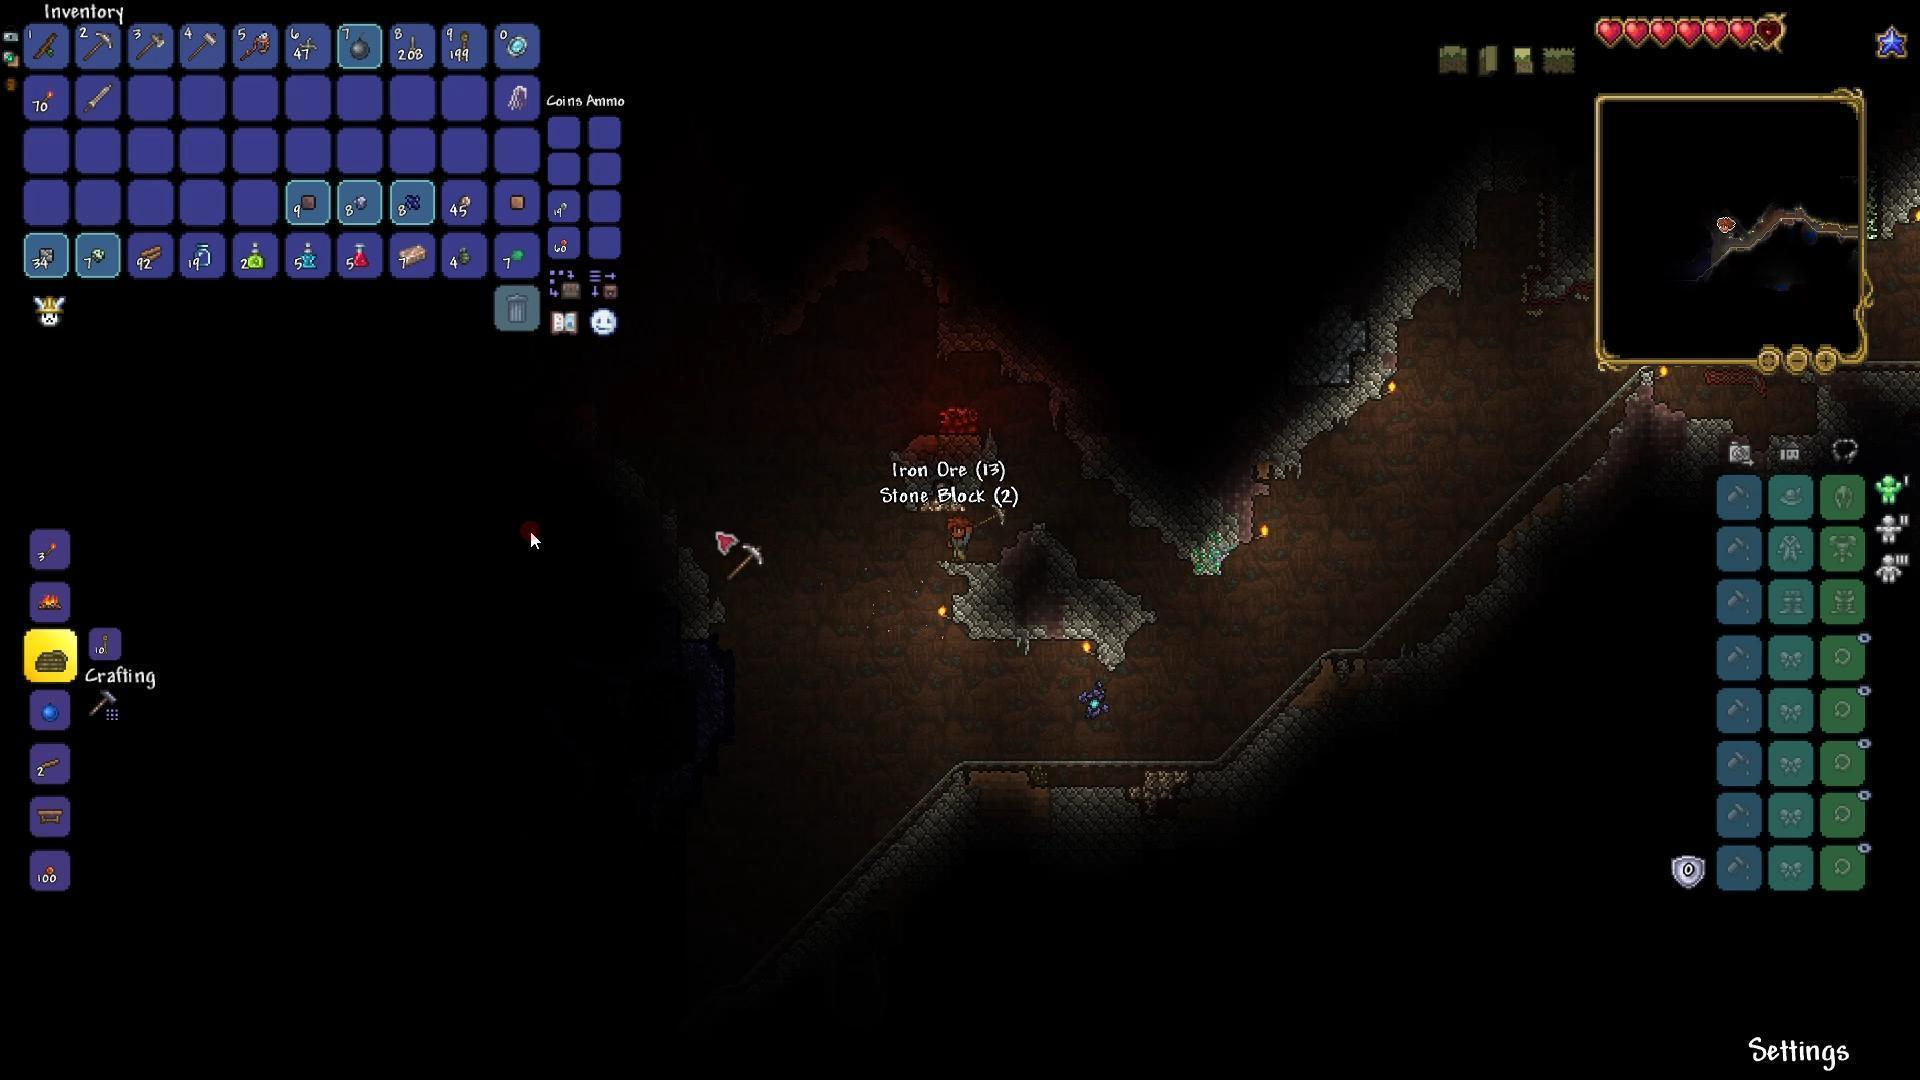altar: (924, 390, 992, 440)
axe: (136, 32, 165, 61)
bomb: (348, 34, 371, 62)
wood: (137, 240, 162, 266)
workbench: (34, 804, 63, 825)
